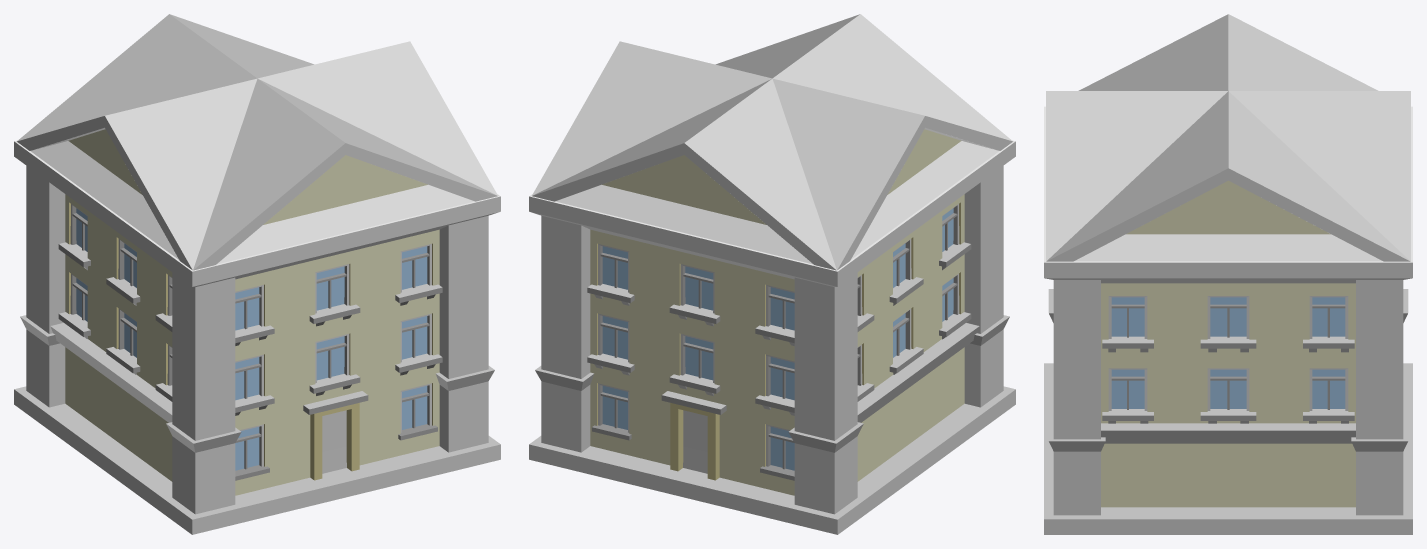
The model's file is house_art_006.fbx.
3 views of the same model, side by side, from view 1: azimuth 30°, elevation 25°; view 2: azimuth 150°, elevation 25°; view 3: azimuth 270°, elevation 25° (orthographic). The views are drawn at different scales.
Visible parts, largest first — view 1: house_art_006; view 2: house_art_006; view 3: house_art_006.
Boxes of the visible parts, x1,y1,x2,y2 form: house_art_006: (14,14,500,534); house_art_006: (529,14,1015,534); house_art_006: (1044,14,1412,534).
Bounding box in the file's own units: 1171 × 1282 × 1171.
